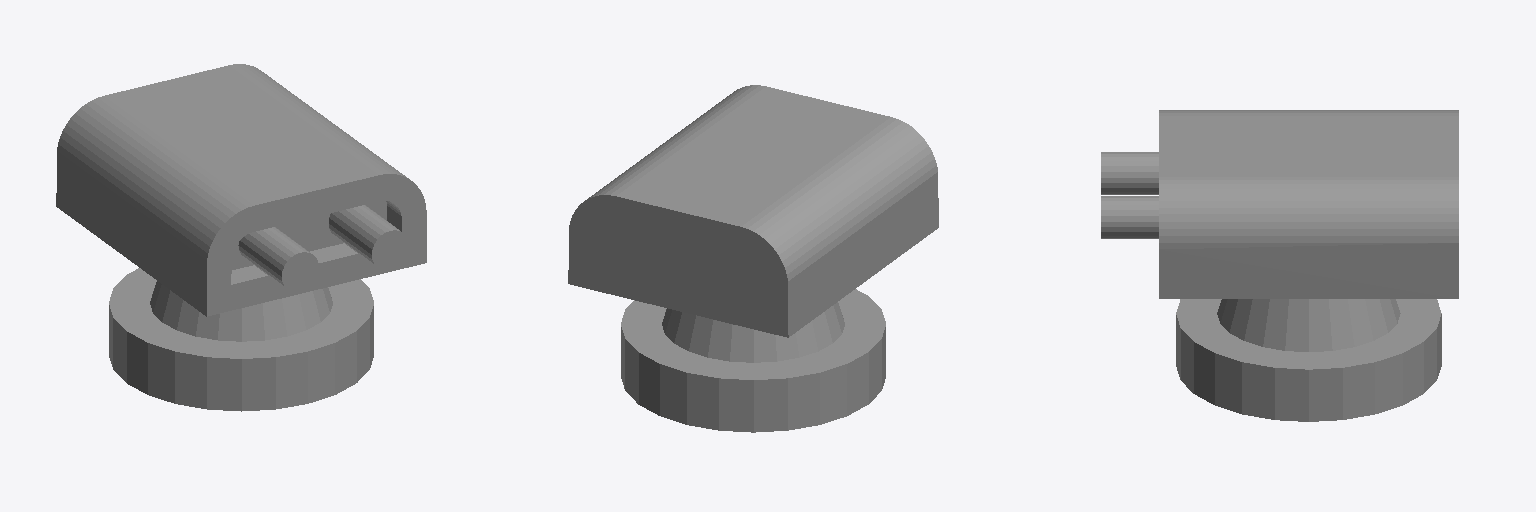
Rendered from TestTurret.obj.
The picture shows the model from 3 angles: view 1: azimuth 30°, elevation 25°; view 2: azimuth 150°, elevation 25°; view 3: azimuth 270°, elevation 25°; orthographic projection.
Parts seen in each view (by area): view 1: weapon_blaster; view 2: weapon_blaster; view 3: weapon_blaster.
Part boxes in pixels (x1,y1,x2,y2): weapon_blaster: (56,64,426,411); weapon_blaster: (568,85,938,432); weapon_blaster: (1101,110,1458,421).
Bounding box in the file's own units: 0.4598 × 0.42 × 0.62.